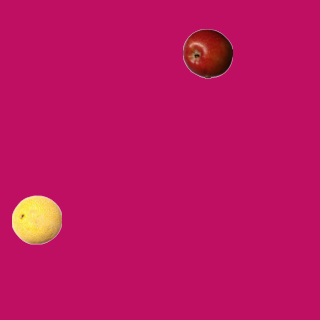Apple Braeburn: (182, 28, 232, 78)
Cantaloupe 1: (11, 194, 61, 244)
